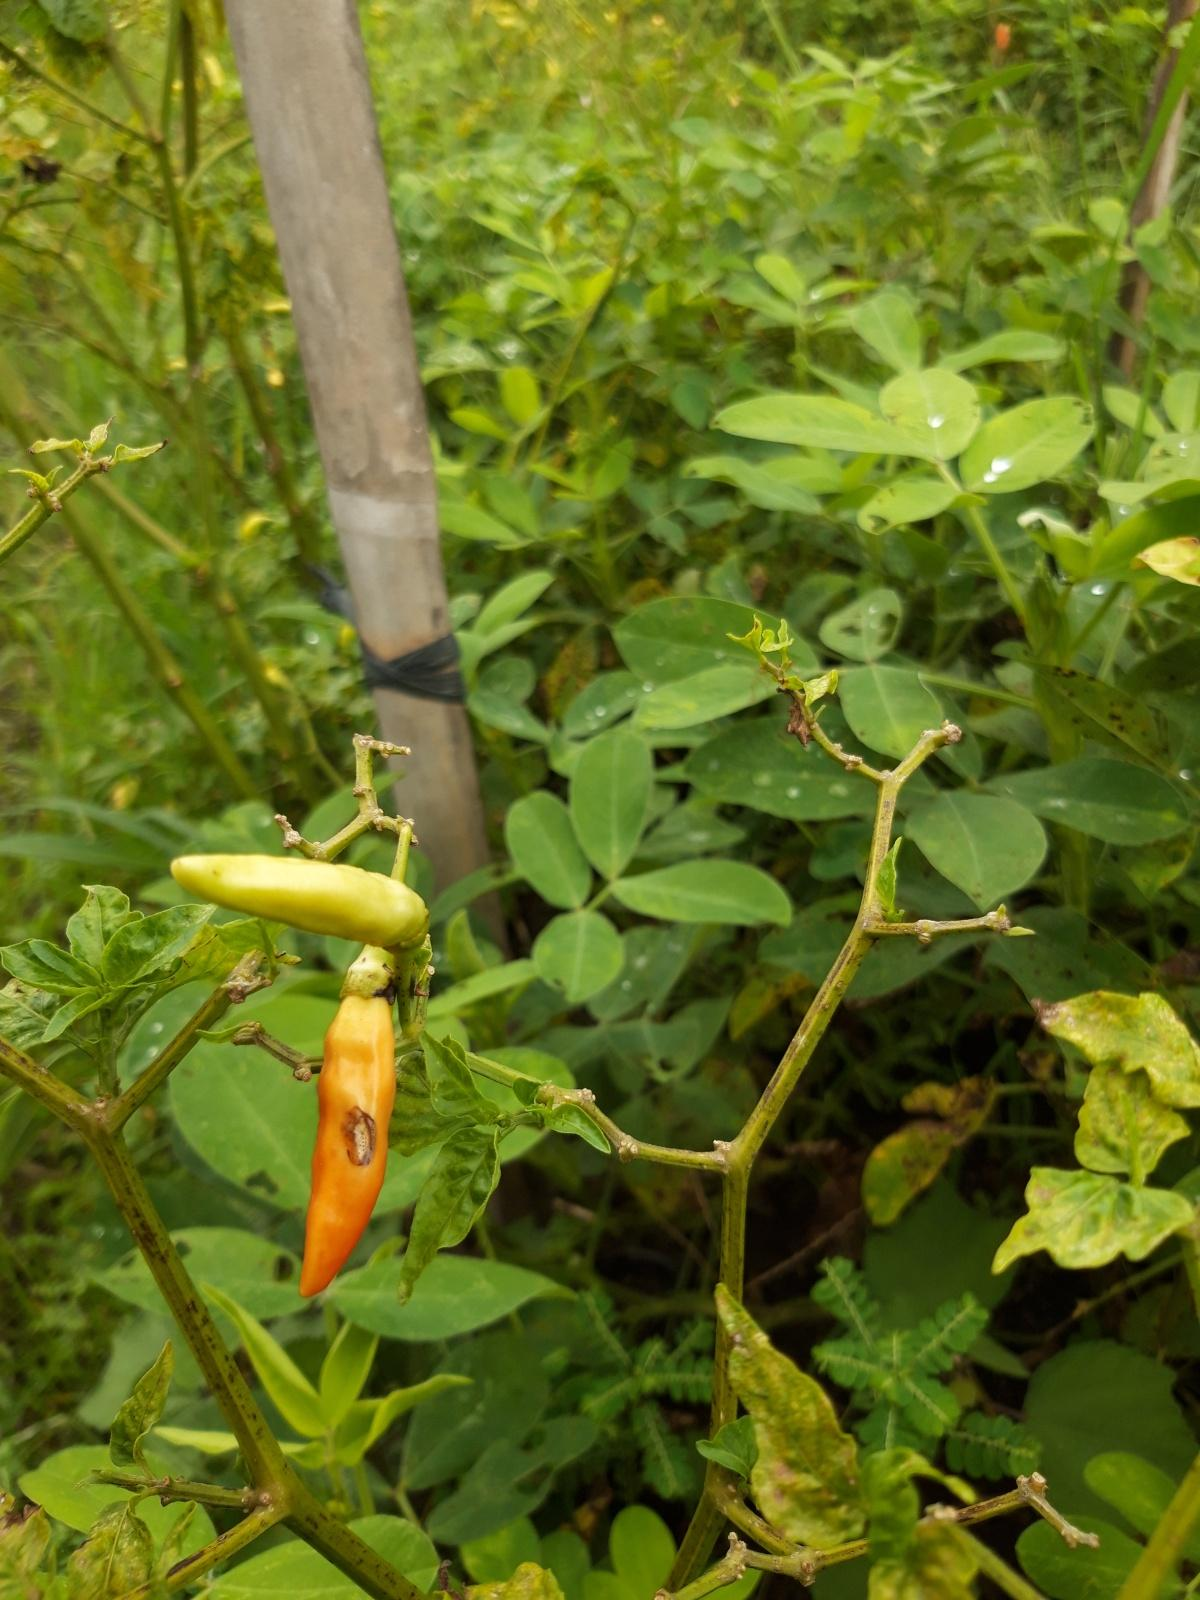cabai_normal: (170, 852, 432, 955)
lalat_buah: (296, 970, 397, 1296)
